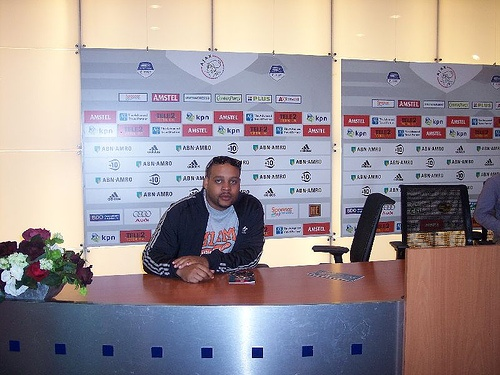head: (205, 159, 241, 210)
person: (139, 156, 264, 281), (468, 154, 500, 237)
